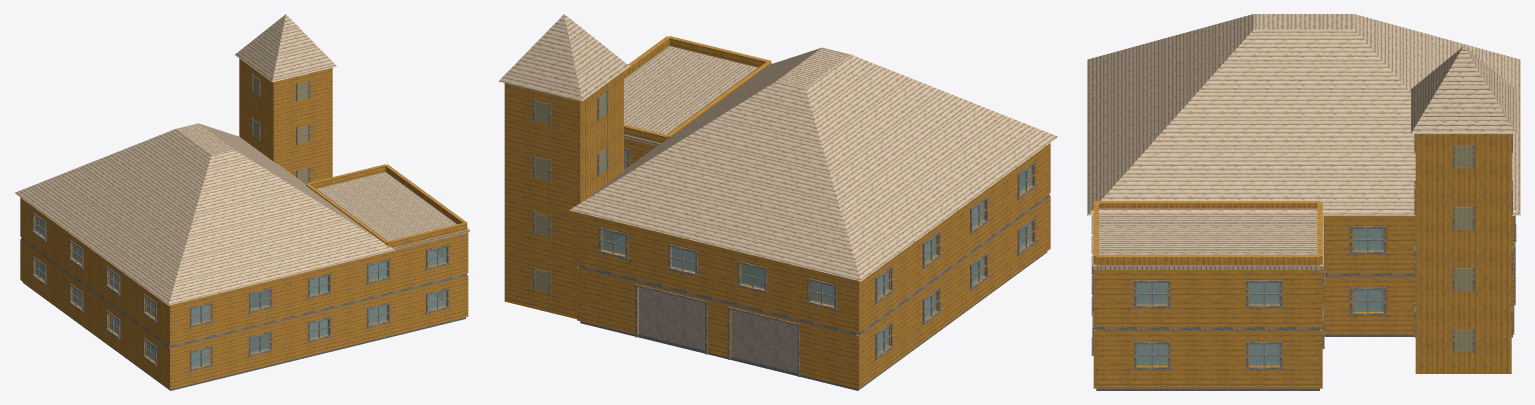
Rendered from copper-watch-firehouse.gltf.
The picture shows the model from 3 angles, left to right: view 1: azimuth 30°, elevation 25°; view 2: azimuth 150°, elevation 25°; view 3: azimuth 270°, elevation 25°; orthographic projection. The views are drawn at different scales.
Parts seen in each view (by area): view 1: roof-L1-copper, exterior-L0-brick, exterior-L1-brick, tower-L0-brick, tower-L0-copper, roof-L1-brick, trim-L0-dark-wood, trim-L1-dark-wood, glazing-L0-glass, glazing-L1-glass, floor-L0-concrete, exterior-L0-dark-wood (+3 smaller); view 2: roof-L1-copper, exterior-L1-brick, tower-L0-brick, exterior-L0-brick, door-leaf-L0-blue-metal (×2), tower-L0-copper, trim-L1-dark-wood, glazing-L1-glass, roof-L1-brick, trim-L0-dark-wood, exterior-L0-dark-wood, tower-L0-glass (+4 smaller); view 3: roof-L1-copper, tower-L0-brick, exterior-L0-brick, exterior-L1-brick, tower-L0-copper, roof-L1-brick, floor-L0-concrete, trim-L0-dark-wood, glazing-L0-glass, glazing-L1-glass, tower-L0-glass, trim-L1-dark-wood (+3 smaller).
Part boxes in pixels (box(x1,y1,x2,y2)): roof-L1-copper: box(15, 123, 469, 305); exterior-L0-brick: box(20, 239, 468, 389); exterior-L1-brick: box(20, 197, 468, 345); tower-L0-brick: box(239, 58, 332, 183); tower-L0-copper: box(235, 14, 336, 82); roof-L1-brick: box(306, 164, 467, 247); trim-L0-dark-wood: box(31, 256, 449, 371); trim-L1-dark-wood: box(31, 212, 449, 327); glazing-L0-glass: box(35, 260, 446, 367); glazing-L1-glass: box(35, 217, 446, 323); floor-L0-concrete: box(23, 282, 465, 390); exterior-L0-dark-wood: box(21, 237, 467, 347); roof-L1-copper: box(569, 46, 1058, 281); exterior-L1-brick: box(577, 138, 1050, 332); tower-L0-brick: box(504, 71, 623, 318); exterior-L0-brick: box(577, 196, 1050, 388); door-leaf-L0-blue-metal (×2): box(639, 287, 797, 373); tower-L0-copper: box(498, 14, 629, 101); trim-L1-dark-wood: box(597, 147, 1036, 310); glazing-L1-glass: box(602, 150, 1031, 305); roof-L1-brick: box(624, 36, 771, 143); trim-L0-dark-wood: box(635, 218, 1036, 376); exterior-L0-dark-wood: box(578, 194, 1049, 335); tower-L0-glass: box(535, 93, 606, 292); roof-L1-copper: box(1087, 14, 1520, 269); tower-L0-brick: box(1415, 134, 1511, 373); exterior-L0-brick: box(1093, 275, 1514, 388); exterior-L1-brick: box(1093, 215, 1514, 327); tower-L0-copper: box(1411, 46, 1516, 133); roof-L1-brick: box(1093, 201, 1322, 265); floor-L0-concrete: box(1096, 291, 1414, 390); trim-L0-dark-wood: box(1091, 216, 1515, 369); glazing-L0-glass: box(1136, 290, 1383, 365); glazing-L1-glass: box(1136, 229, 1383, 304); tower-L0-glass: box(1414, 145, 1512, 351); trim-L1-dark-wood: box(1091, 215, 1516, 308).
Size of the model in its own units: 15.43 by 10.75 by 13.56.
Materials: 9 (8 with a texture image).
